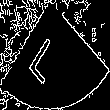L_NE: (35, 26, 75, 84)
